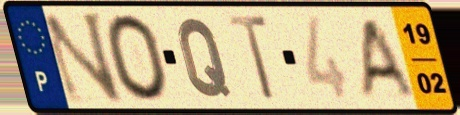4: (303, 13, 352, 102)
A: (356, 15, 418, 101)
N: (37, 9, 126, 106)
O: (102, 11, 172, 104)
Q: (175, 15, 234, 100)
T: (225, 13, 279, 104)
